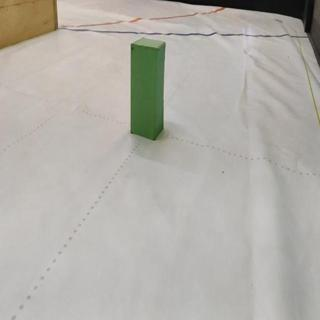greenbox: (129, 37, 166, 140)
